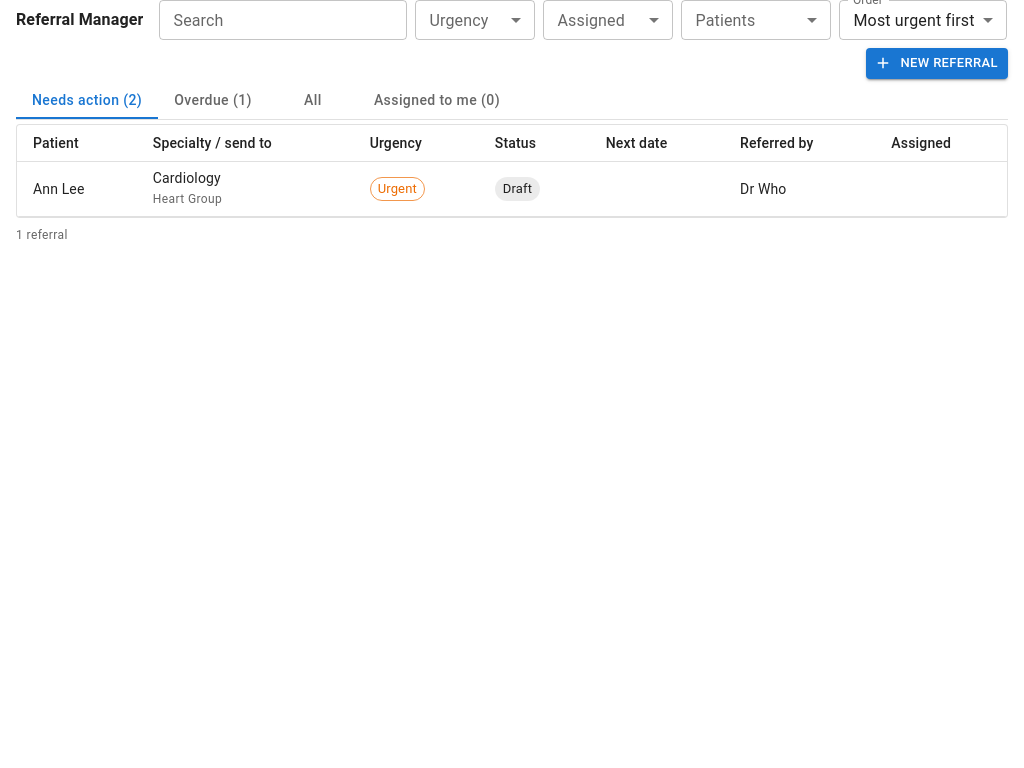
Test: the server's refusal is shown in the step dialog
Click the row with test id "referral-row-11" at {"x": 512, "y": 189}, box [17,161,1007,216]
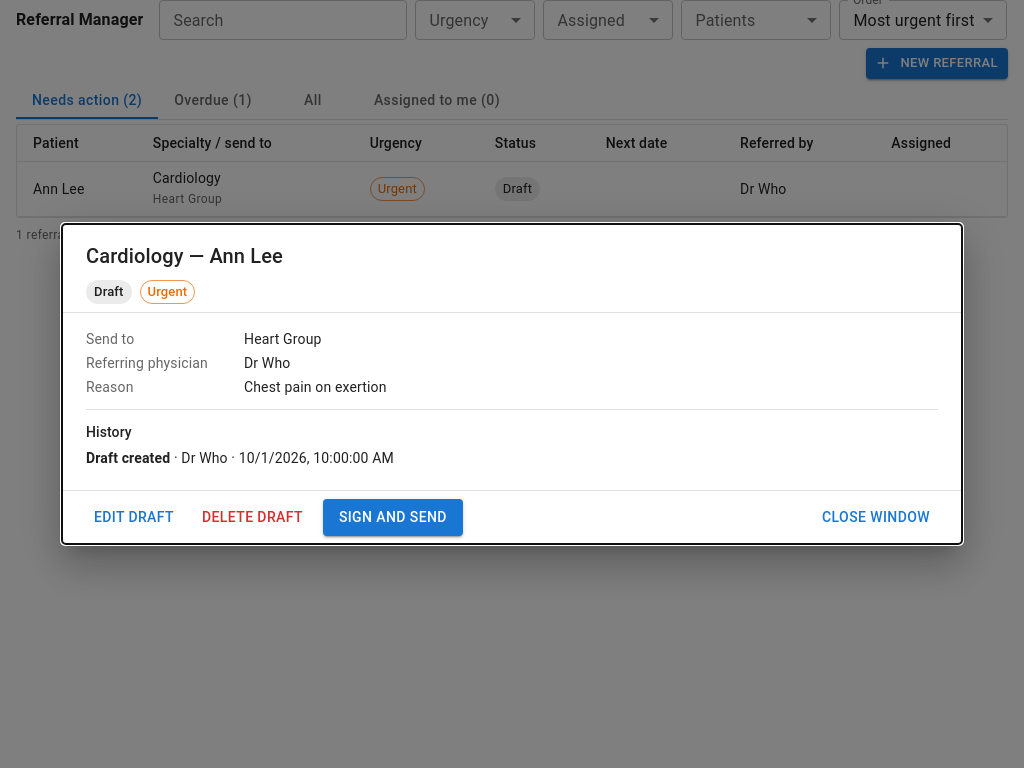
Click the button with test id "referral-action-sign_send" at {"x": 393, "y": 518}, box [323,499,463,536]
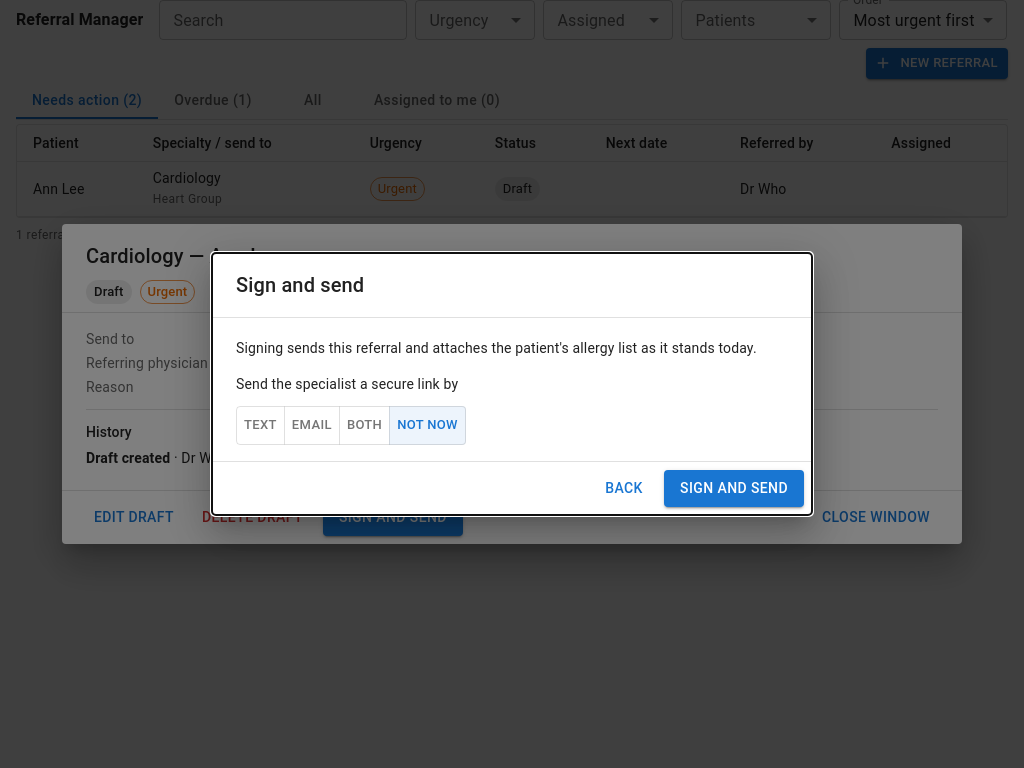
Click the button with test id "referral-action-confirm" at {"x": 734, "y": 488}, box [664,470,804,507]
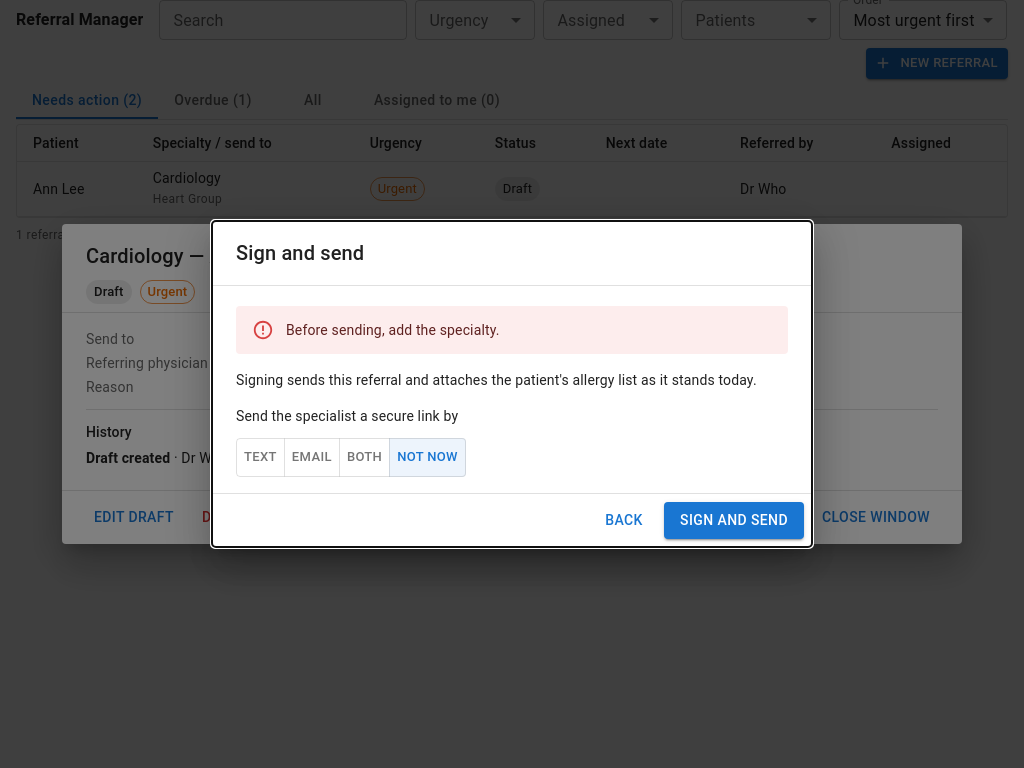
Check: the message with test id "referral-action-error" reads "Before sending, add the specialty.", box [286,322,500,338]
